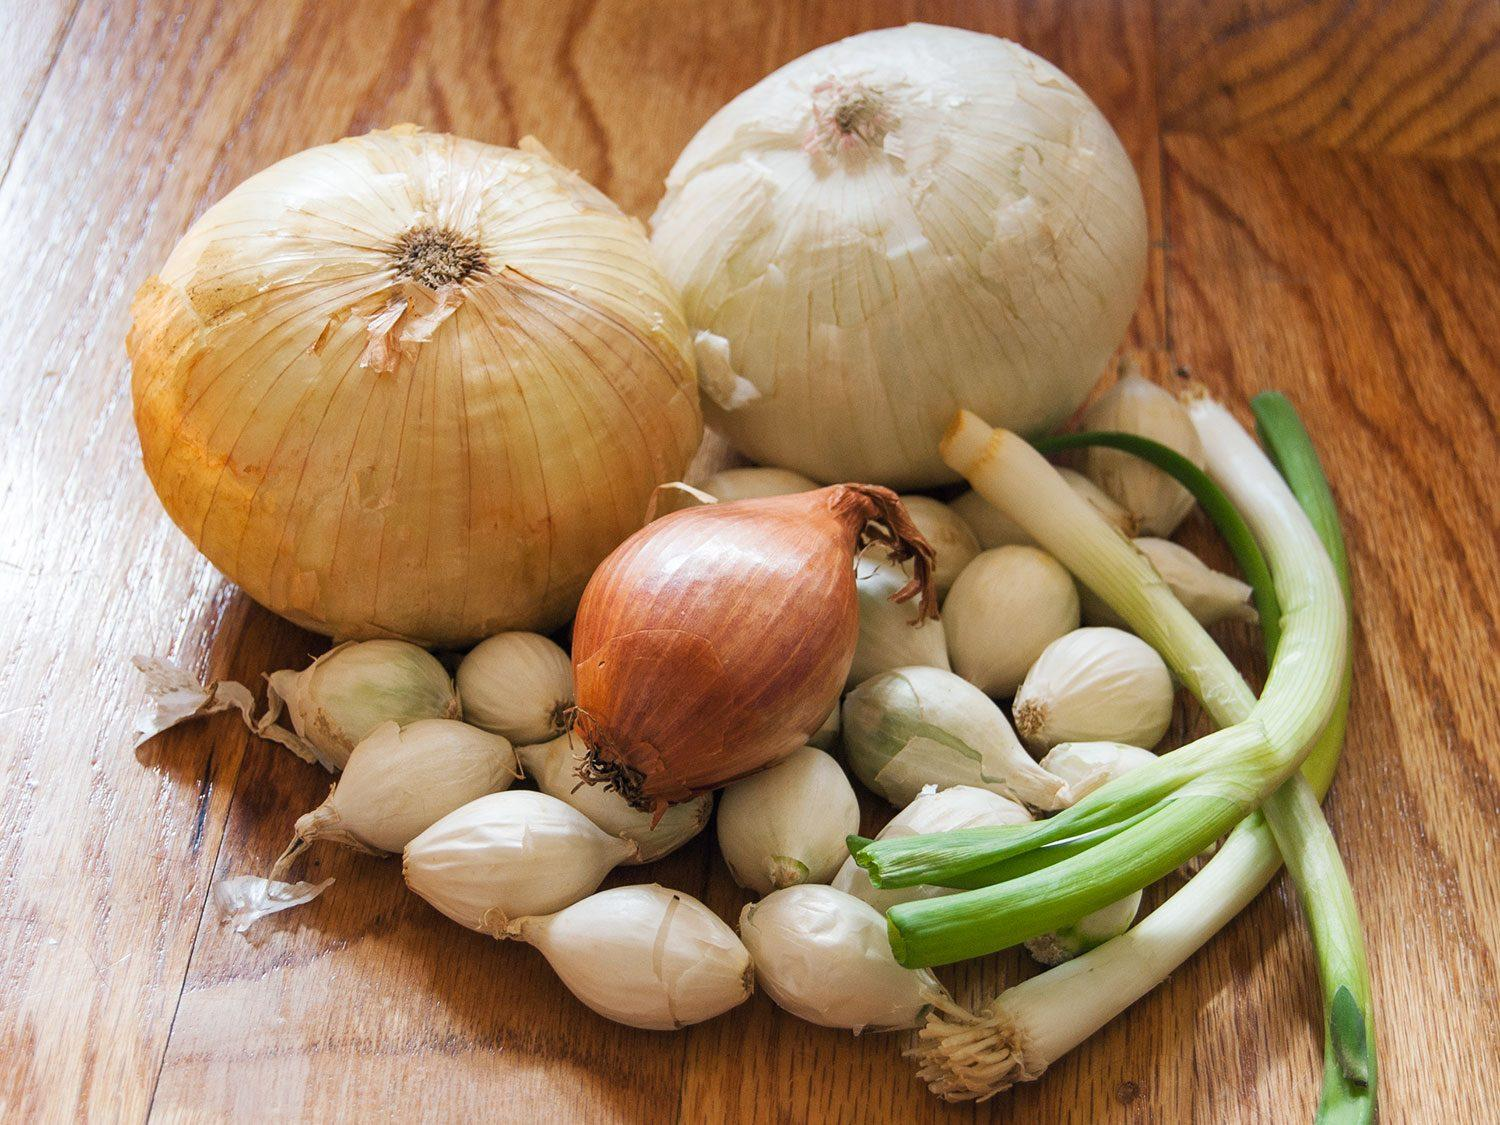onion: (863, 382, 1377, 1119), (124, 121, 705, 648), (645, 20, 1150, 491), (568, 478, 941, 822)
